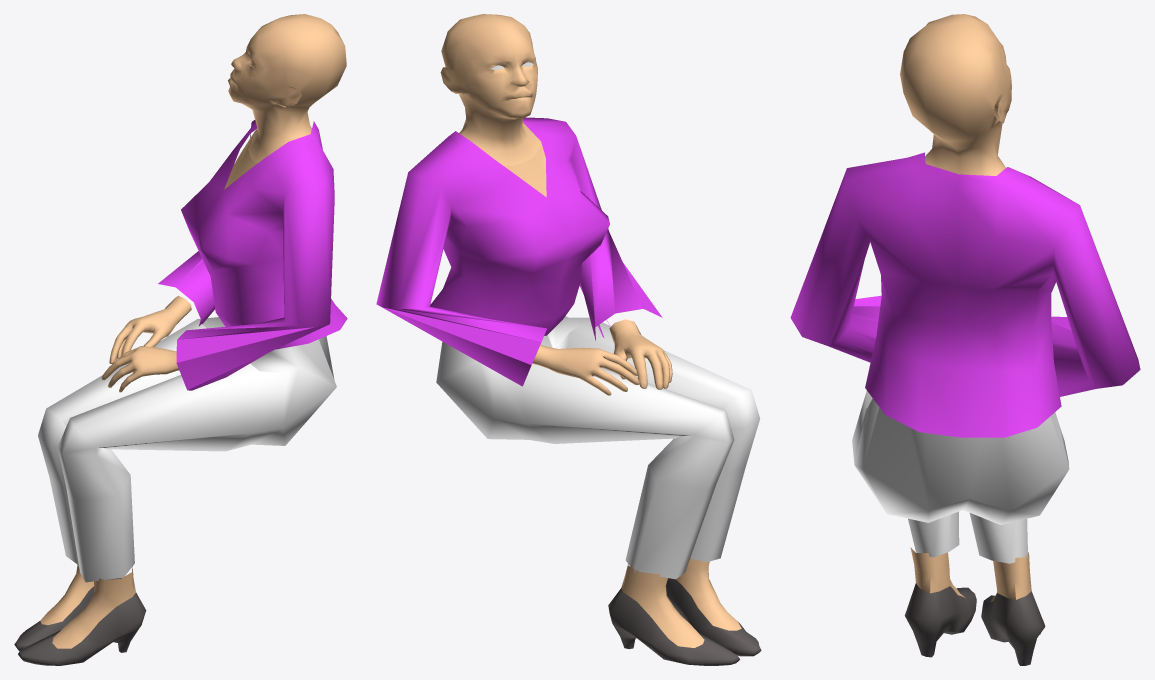
Rendered from player2.gltf.
3 renders of one model, left to right at view 1: azimuth 30°, elevation 25°; view 2: azimuth 150°, elevation 25°; view 3: azimuth 270°, elevation 25°, orthographic. The views are drawn at different scales.
Visible parts, largest first — view 1: Group_101, Group_099, Group_102, Group_106, Group_105, Group_100; view 2: Group_099, Group_101, Group_102, Group_106, Group_105, Group_100; view 3: Group_099, Group_101, Group_102, Group_106, Group_105.
Part boxes in pixels (x1,y1,x2,y2): Group_101: (38, 317, 336, 582); Group_099: (158, 120, 347, 390); Group_102: (101, 14, 346, 392); Group_106: (14, 578, 146, 665); Group_105: (40, 564, 135, 648); Group_100: (224, 129, 257, 189); Group_099: (376, 117, 662, 386); Group_101: (436, 316, 760, 579); Group_102: (440, 14, 672, 395); Group_106: (608, 578, 761, 665); Group_105: (621, 558, 741, 647); Group_100: (503, 144, 546, 196); Group_099: (790, 152, 1140, 437); Group_101: (852, 390, 1069, 563); Group_102: (900, 14, 1011, 175); Group_106: (904, 583, 1045, 665); Group_105: (910, 547, 1031, 601).
Bounding box in the file's own units: 1.37 × 2.34 × 0.9917.
